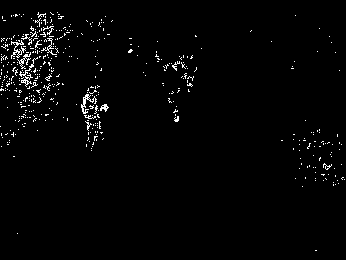person: (82, 86, 109, 155)
